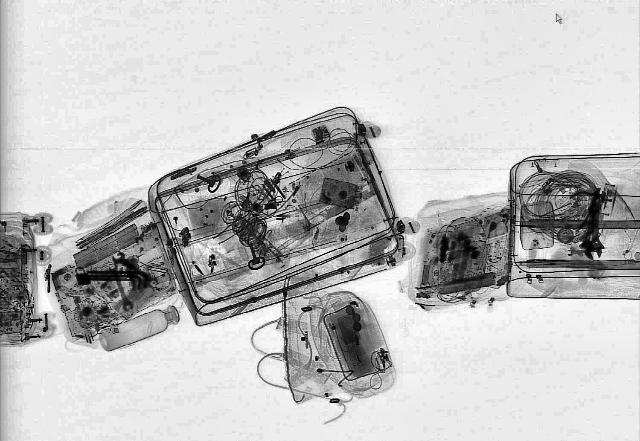Pliers: (551, 181, 619, 224)
Wrench: (104, 261, 136, 311), (576, 220, 606, 260), (108, 250, 144, 274)
